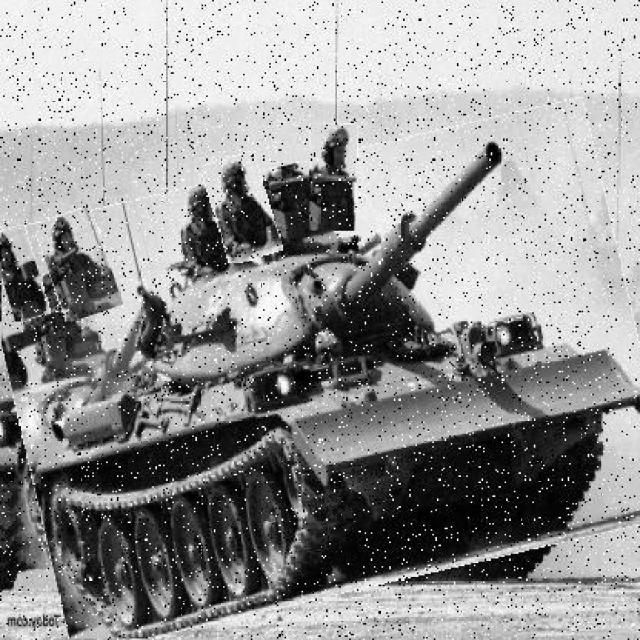Person: (42, 210, 118, 321), (207, 155, 278, 264), (309, 124, 360, 233), (3, 226, 46, 324)
Tank: (3, 130, 640, 626)
